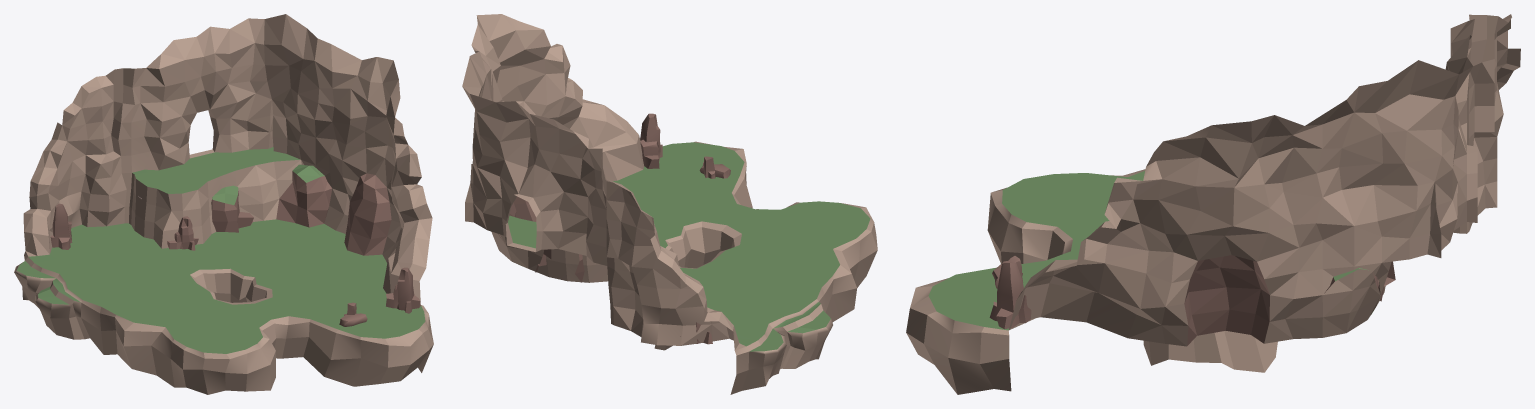
The model's file is level_one_assets_terrain.fbx.
The picture shows the model from 3 angles, left to right: view 1: azimuth 30°, elevation 25°; view 2: azimuth 150°, elevation 25°; view 3: azimuth 270°, elevation 25°; orthographic projection. The views are drawn at different scales.
Visible parts, largest first — view 1: terrain; view 2: terrain; view 3: terrain.
Part boxes in pixels (left/top/right/bottom): terrain: left=14, top=14, right=433, bottom=394; terrain: left=462, top=14, right=877, bottom=394; terrain: left=906, top=14, right=1520, bottom=394.
Size of the model in its own units: 2101 by 1607 by 2288.
